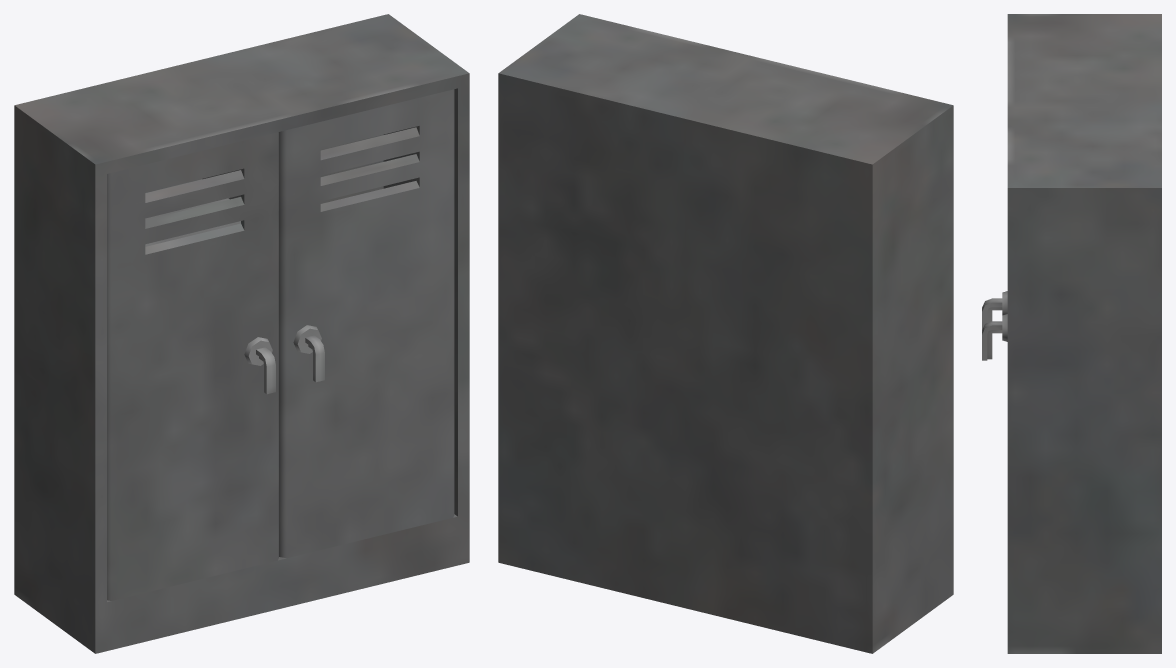
Rendered from double_locker.obj.
The picture shows the model from 3 angles, left to right: view 1: azimuth 30°, elevation 25°; view 2: azimuth 150°, elevation 25°; view 3: azimuth 270°, elevation 25°; orthographic projection. The views are drawn at different scales.
Visible parts, largest first — view 1: double_locker__EXPORT_TEMP; view 2: double_locker__EXPORT_TEMP; view 3: double_locker__EXPORT_TEMP.
Boxes of the visible parts, <box> form: double_locker__EXPORT_TEMP: <box>14,14,469,653</box>; double_locker__EXPORT_TEMP: <box>498,14,953,653</box>; double_locker__EXPORT_TEMP: <box>982,14,1161,653</box>.
Bounding box in the file's own units: 1.6 × 2 × 0.699.
